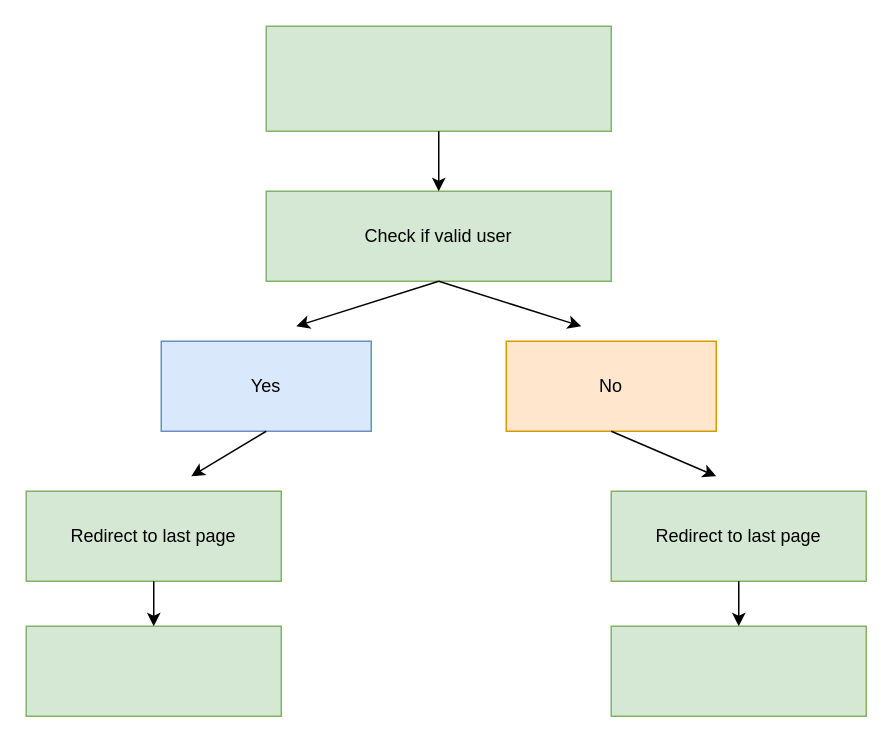
Image size: 893x743. Some labels were removed from this diagram. The shapes that lost their labels are listed below. From the top down, each one's box as (x1, y1, x2, y2) in pixels, then its label:
(265, 25, 611, 131): User logs in
(25, 625, 281, 716): Display welcome notification
(610, 625, 866, 716): Display notification about registration form
